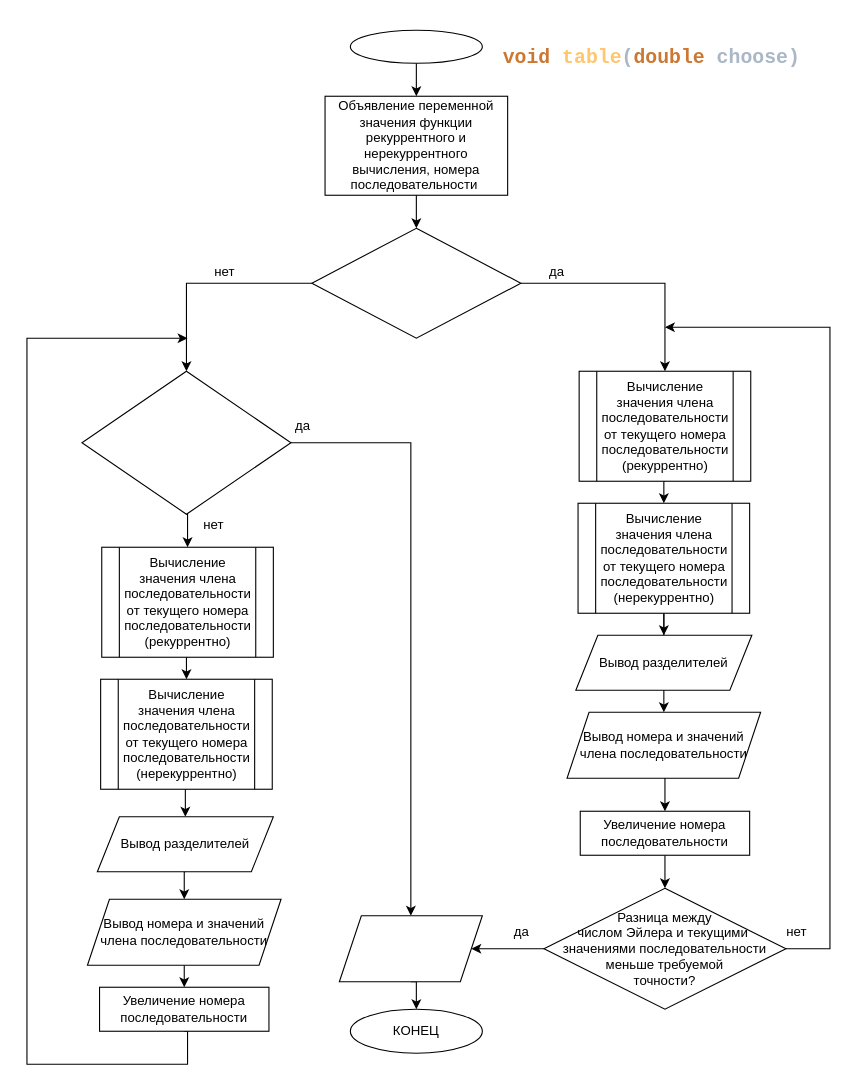
The diagram is 858 pixels wide and 1092 high, and some of its shapes have lost their labels. Here are the shapes that lost their labels. From the top down, the centre of each, then its label:
At point (415, 46): "НАЧАЛО".
At point (416, 282): "Значение выбора < 1 (является требуемой точностью)?".
At point (186, 442): "Посчитано требуемое количество итераций (значение выбора)?".
At point (410, 948): "Вывод точного значения е в файл".
